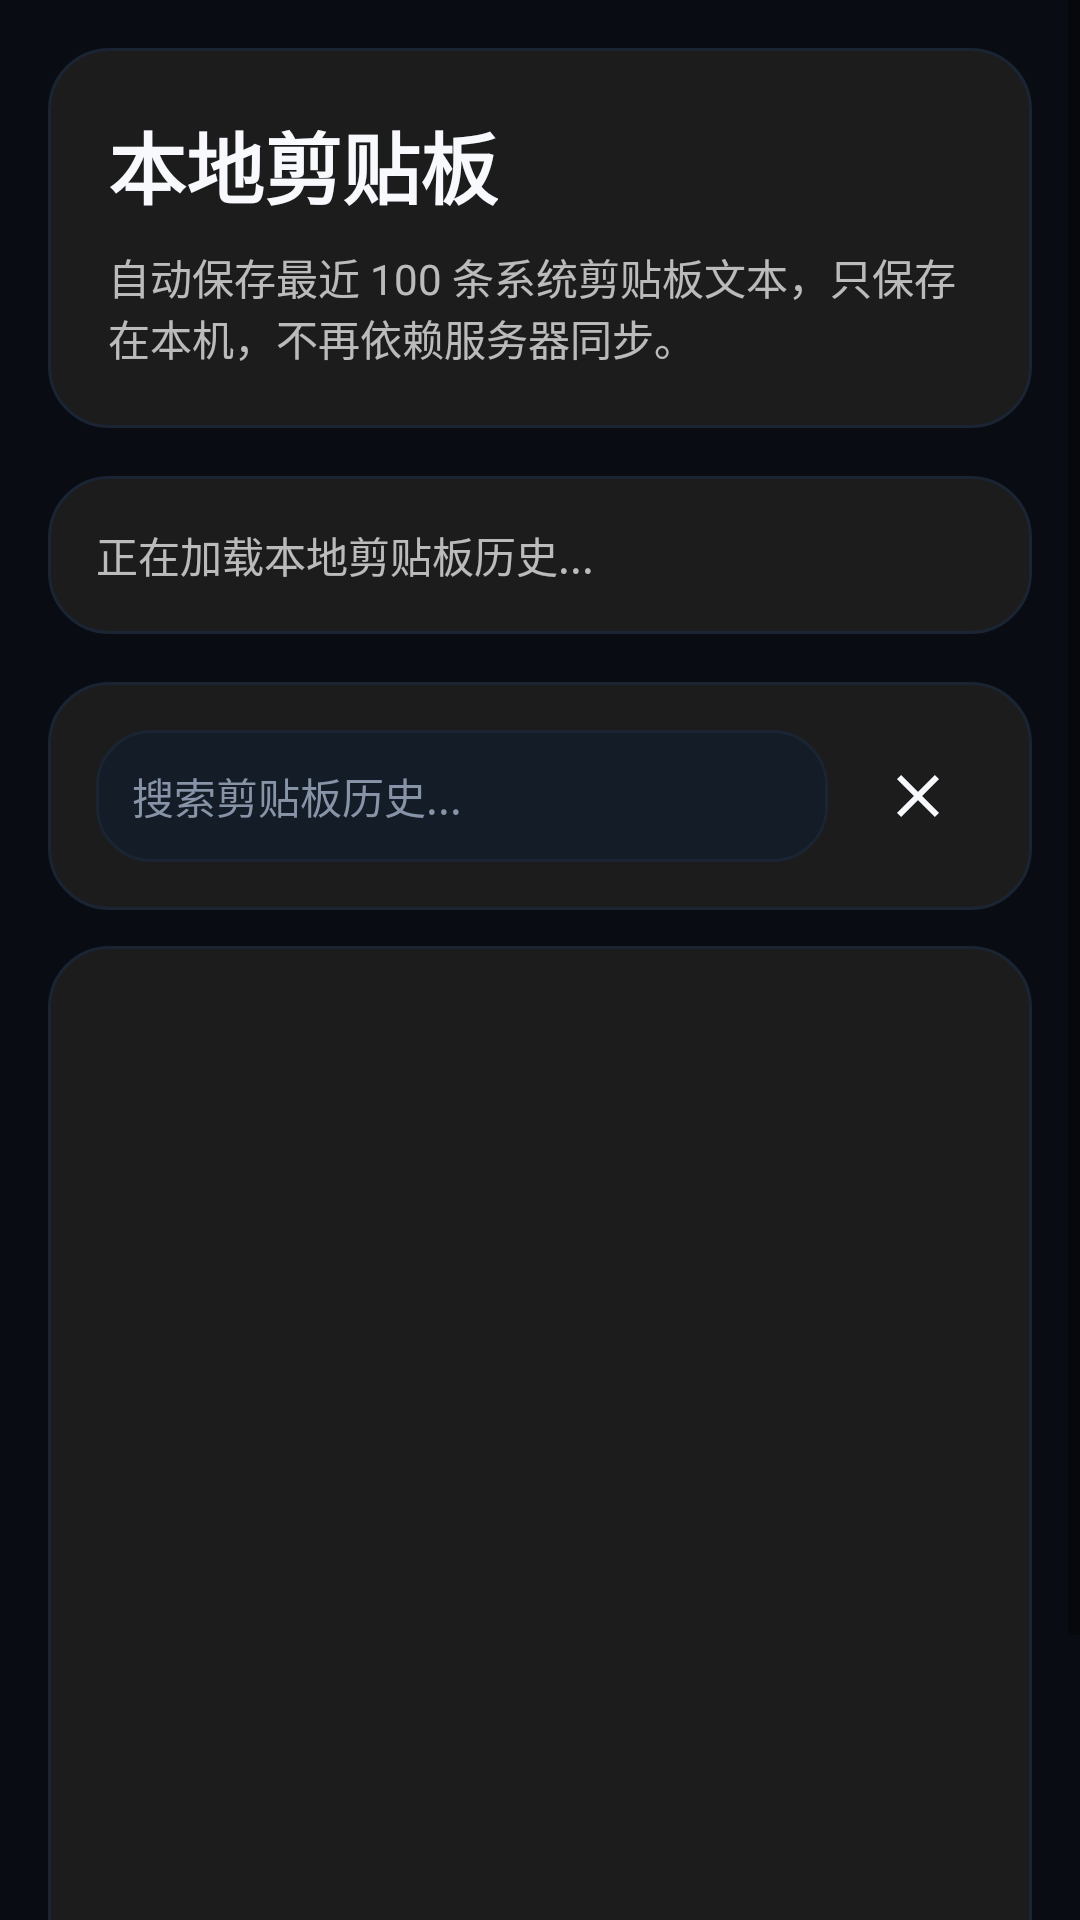

Icons on this 1080px x 1920px Android screen, each with its box as (x1, y1, x2, y2):
清空历史: (897, 775, 939, 817)
